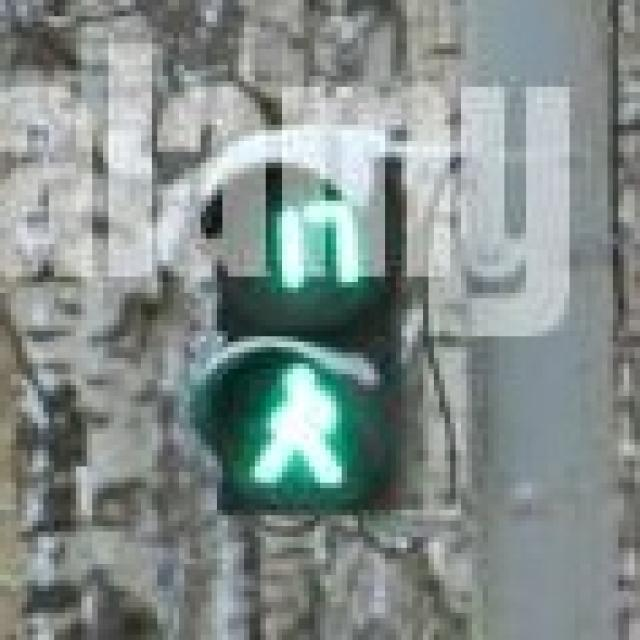geen-crossing: (244, 352, 347, 493)
